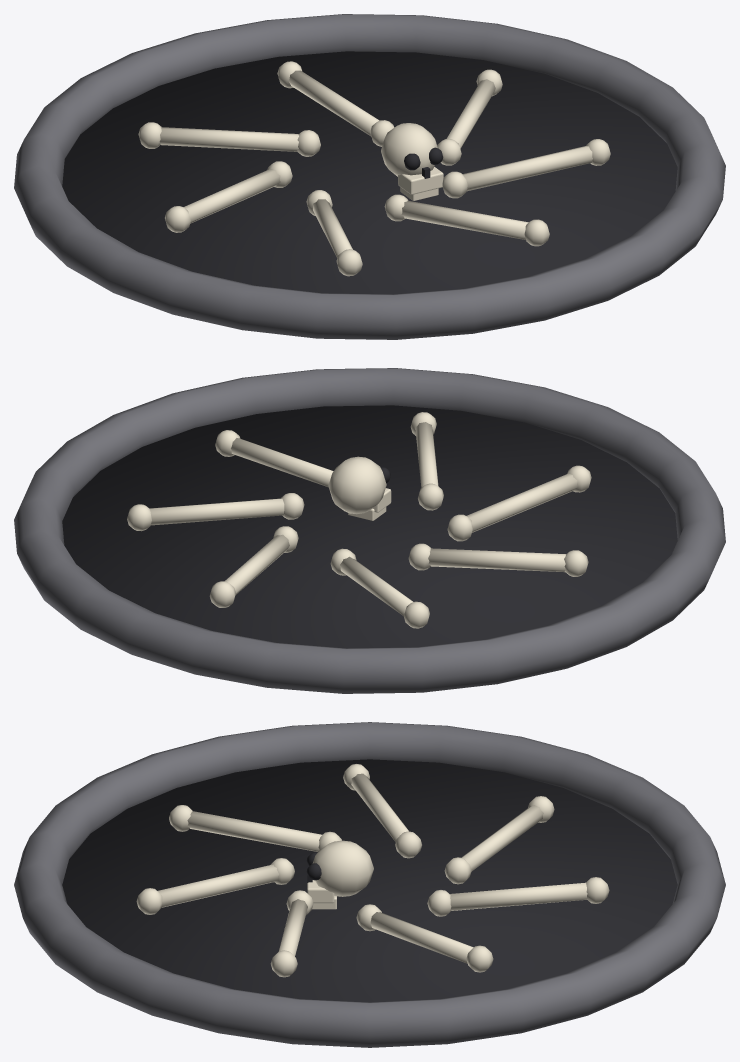
File: floor_feature_bone_pit.glb
3 views of the same model, one above another, from view 1: azimuth 30°, elevation 25°; view 2: azimuth 150°, elevation 25°; view 3: azimuth 270°, elevation 25° (orthographic).
Visible parts, largest first — view 1: GD_floor_feature_bone_pit__m0, GD_floor_feature_bone_pit__m1, GD_floor_feature_bone_pit__m2; view 2: GD_floor_feature_bone_pit__m0, GD_floor_feature_bone_pit__m1, GD_floor_feature_bone_pit__m2; view 3: GD_floor_feature_bone_pit__m0, GD_floor_feature_bone_pit__m1, GD_floor_feature_bone_pit__m2.
Part boxes in pixels (x1=…): GD_floor_feature_bone_pit__m0: x1=62, y1=51, x2=677, y2=294; GD_floor_feature_bone_pit__m1: x1=14, y1=14, x2=725, y2=339; GD_floor_feature_bone_pit__m2: x1=138, y1=61, x2=610, y2=276; GD_floor_feature_bone_pit__m0: x1=62, y1=405, x2=677, y2=648; GD_floor_feature_bone_pit__m1: x1=14, y1=368, x2=725, y2=693; GD_floor_feature_bone_pit__m2: x1=127, y1=412, x2=591, y2=628; GD_floor_feature_bone_pit__m0: x1=62, y1=759, x2=677, y2=1002; GD_floor_feature_bone_pit__m1: x1=14, y1=722, x2=725, y2=1047; GD_floor_feature_bone_pit__m2: x1=136, y1=764, x2=609, y2=977.
Size of the model in its own units: 1.18 by 0.1398 by 1.18.
